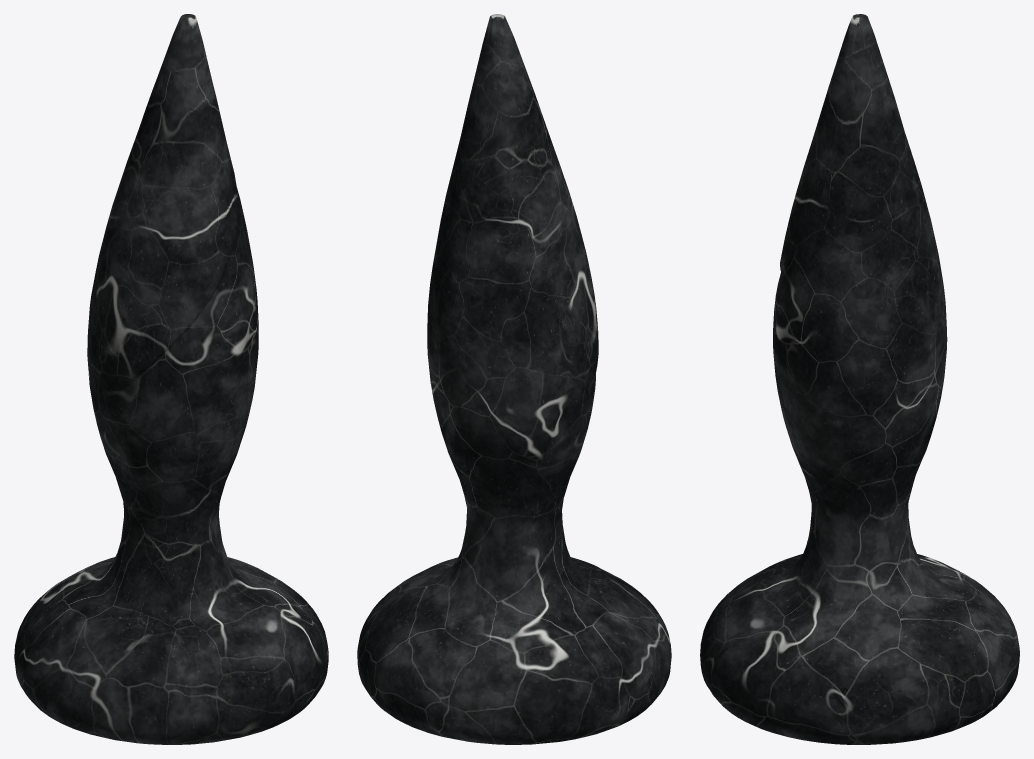
File: bishop-black.glb
The picture shows the model from 3 angles, left to right: view 1: azimuth 30°, elevation 25°; view 2: azimuth 150°, elevation 25°; view 3: azimuth 270°, elevation 25°; orthographic projection.
Visible parts, largest first — view 1: Serpentina_bishop_black; view 2: Serpentina_bishop_black; view 3: Serpentina_bishop_black.
Boxes of the visible parts, x1=… form: Serpentina_bishop_black: x1=14, y1=14, x2=328, y2=744; Serpentina_bishop_black: x1=357, y1=14, x2=671, y2=744; Serpentina_bishop_black: x1=700, y1=14, x2=1019, y2=744.
Bounding box in the file's own units: 0.6349 × 1.48 × 0.6356.
1 material, 1 textured.
